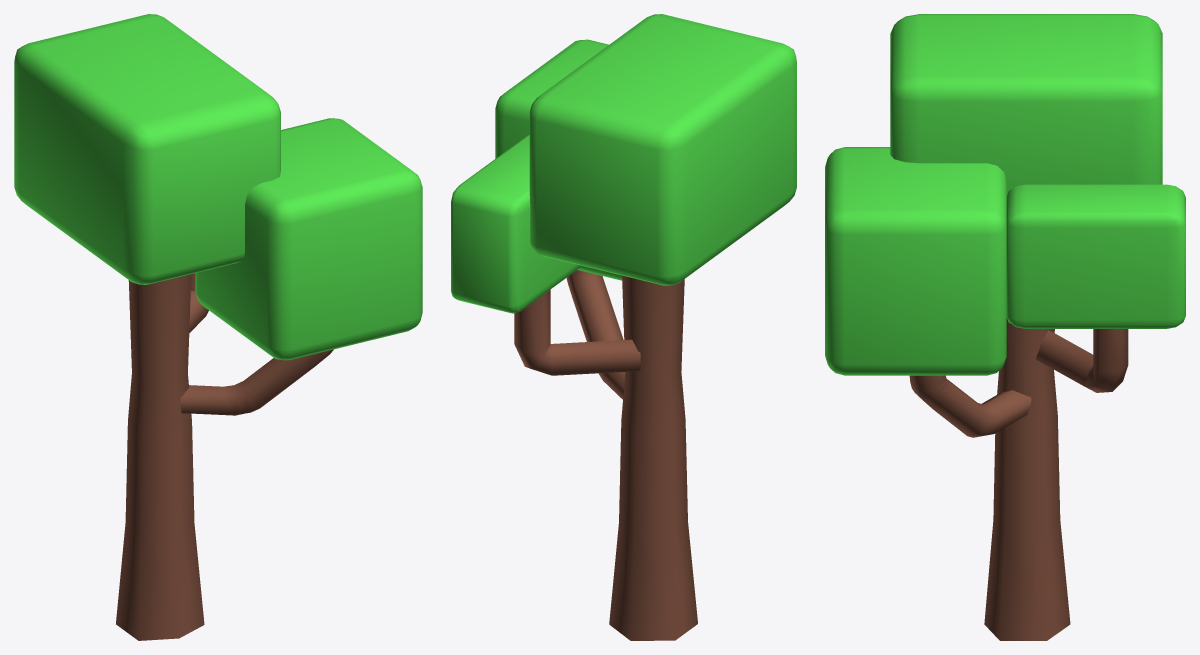
The model's file is tree1.fbx.
3 views of the same model, side by side, from view 1: azimuth 30°, elevation 25°; view 2: azimuth 150°, elevation 25°; view 3: azimuth 270°, elevation 25° (orthographic). The views are drawn at different scales.
Visible parts, largest first — view 1: Cube; view 2: Cube; view 3: Cube.
Boxes of the visible parts, box(x1,y1,x2,y2) form: Cube: box(14, 14, 422, 640); Cube: box(451, 14, 796, 640); Cube: box(825, 14, 1185, 640).
Bounding box in the file's own units: 341 × 696 × 397.
